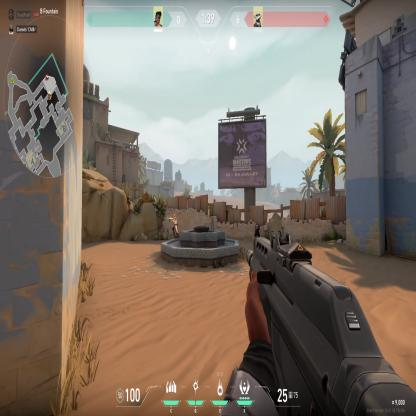enemy: (172, 213, 178, 238)
